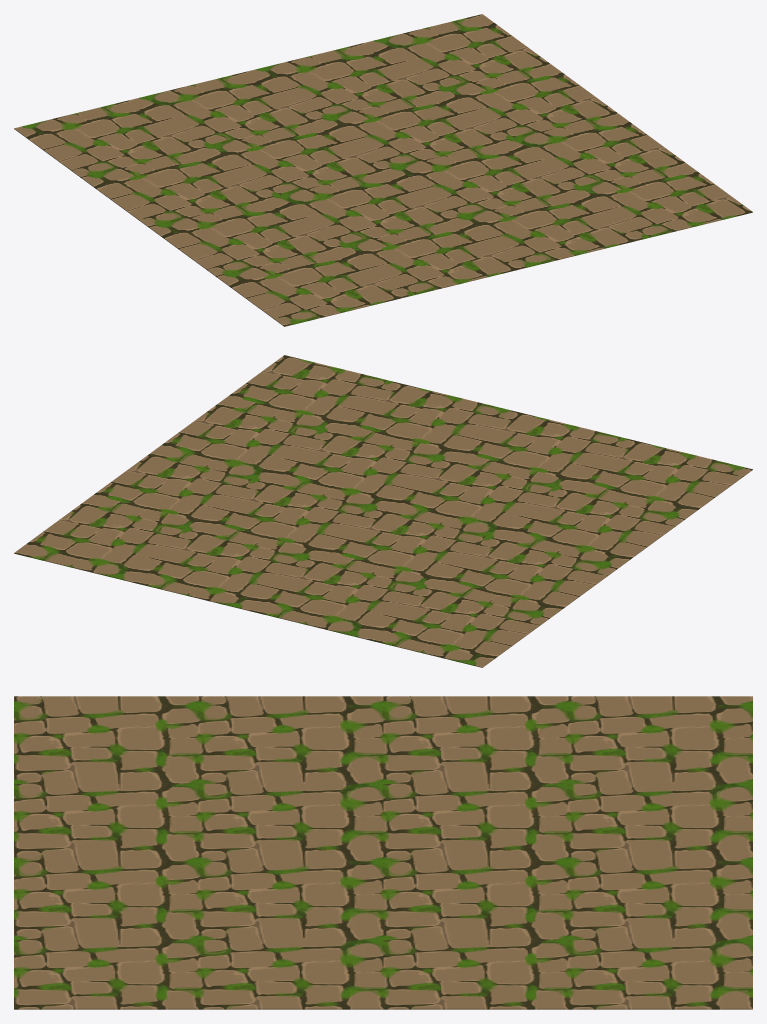
Rendered from FloorFantasyRocks_04.glb.
3 views of the same model, one above another, from view 1: azimuth 30°, elevation 25°; view 2: azimuth 150°, elevation 25°; view 3: azimuth 270°, elevation 25° (orthographic). The views are drawn at different scales.
Parts seen in each view (by area): view 1: FloorFantasyRocks_04; view 2: FloorFantasyRocks_04; view 3: FloorFantasyRocks_04.
Part boxes in pixels (x1=…): FloorFantasyRocks_04: x1=14, y1=14, x2=752, y2=326; FloorFantasyRocks_04: x1=14, y1=355, x2=752, y2=667; FloorFantasyRocks_04: x1=14, y1=696, x2=752, y2=1009.
Bounding box in the file's own units: 16 × 0.0191 × 16.
1 material, 1 textured.
